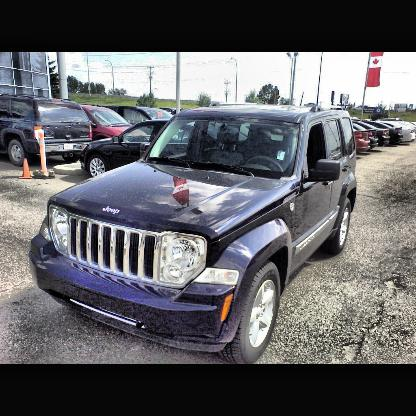Jeep Liberty SUV 2012: (27, 102, 360, 364)
